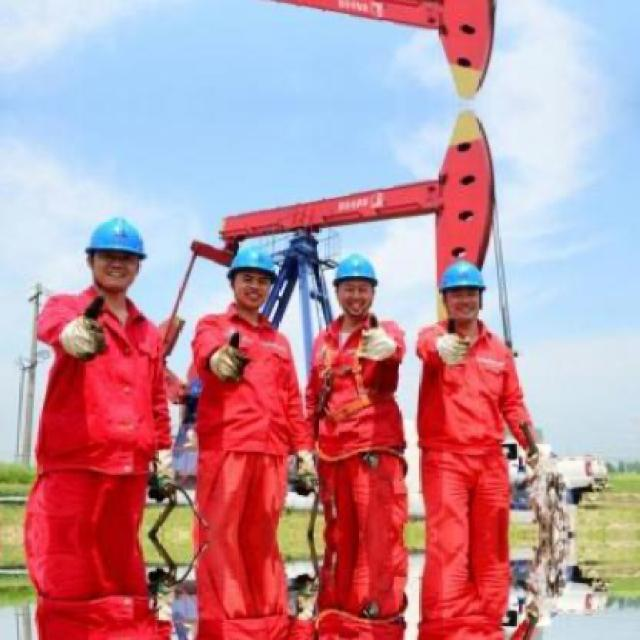con casco: (41, 176, 166, 359), (194, 232, 297, 385), (309, 246, 393, 355), (430, 259, 510, 346)
